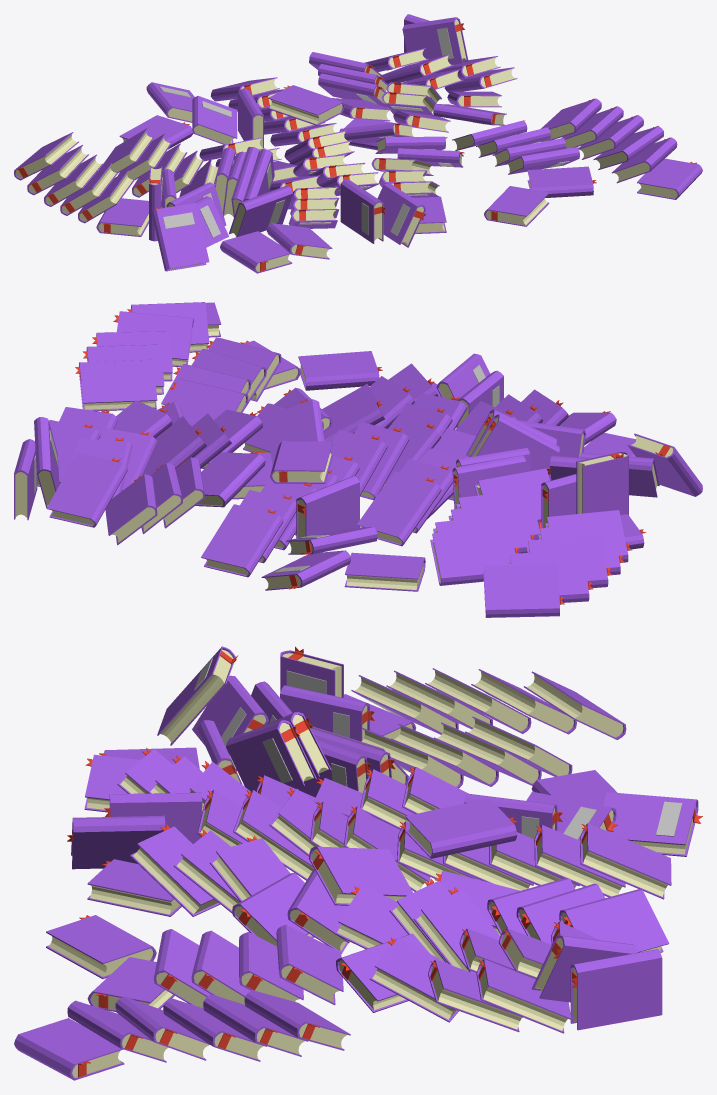
Rendered from booksPile_02.fbx.
3 renders of one model, top to bottom at view 1: azimuth 30°, elevation 25°; view 2: azimuth 150°, elevation 25°; view 3: azimuth 270°, elevation 25°, orthographic. The views are drawn at different scales.
Visible parts, largest first — view 1: book_02.001; view 2: book_02.001; view 3: book_02.001.
Boxes of the visible parts, <box> form: book_02.001: <box>14,14,702,273</box>; book_02.001: <box>14,302,702,617</box>; book_02.001: <box>14,646,702,1080</box>.
Bounding box in the file's own units: 295 × 35.45 × 225.
